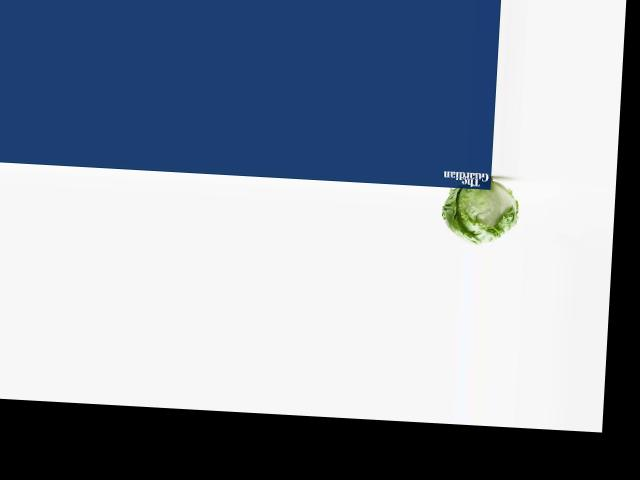lettuce: (442, 178, 519, 249)
